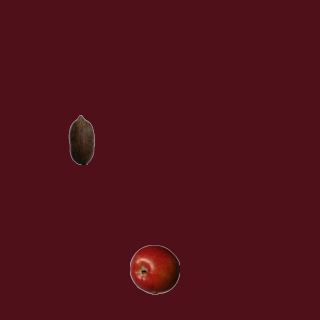Apple Braeburn: (129, 244, 179, 294)
Nut Pecan: (56, 114, 106, 164)
